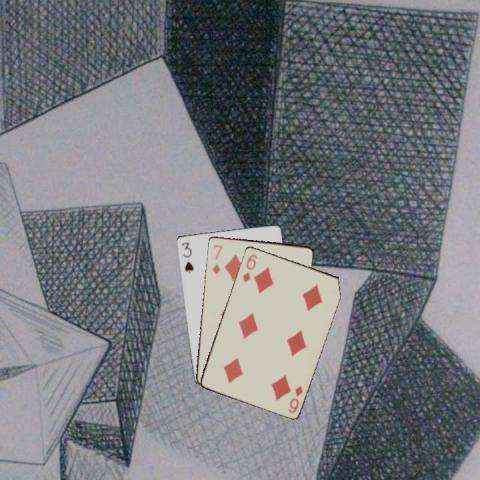3s: (178, 239, 194, 274)
6d: (239, 251, 259, 284), (285, 383, 304, 414)
7d: (210, 241, 224, 276)
